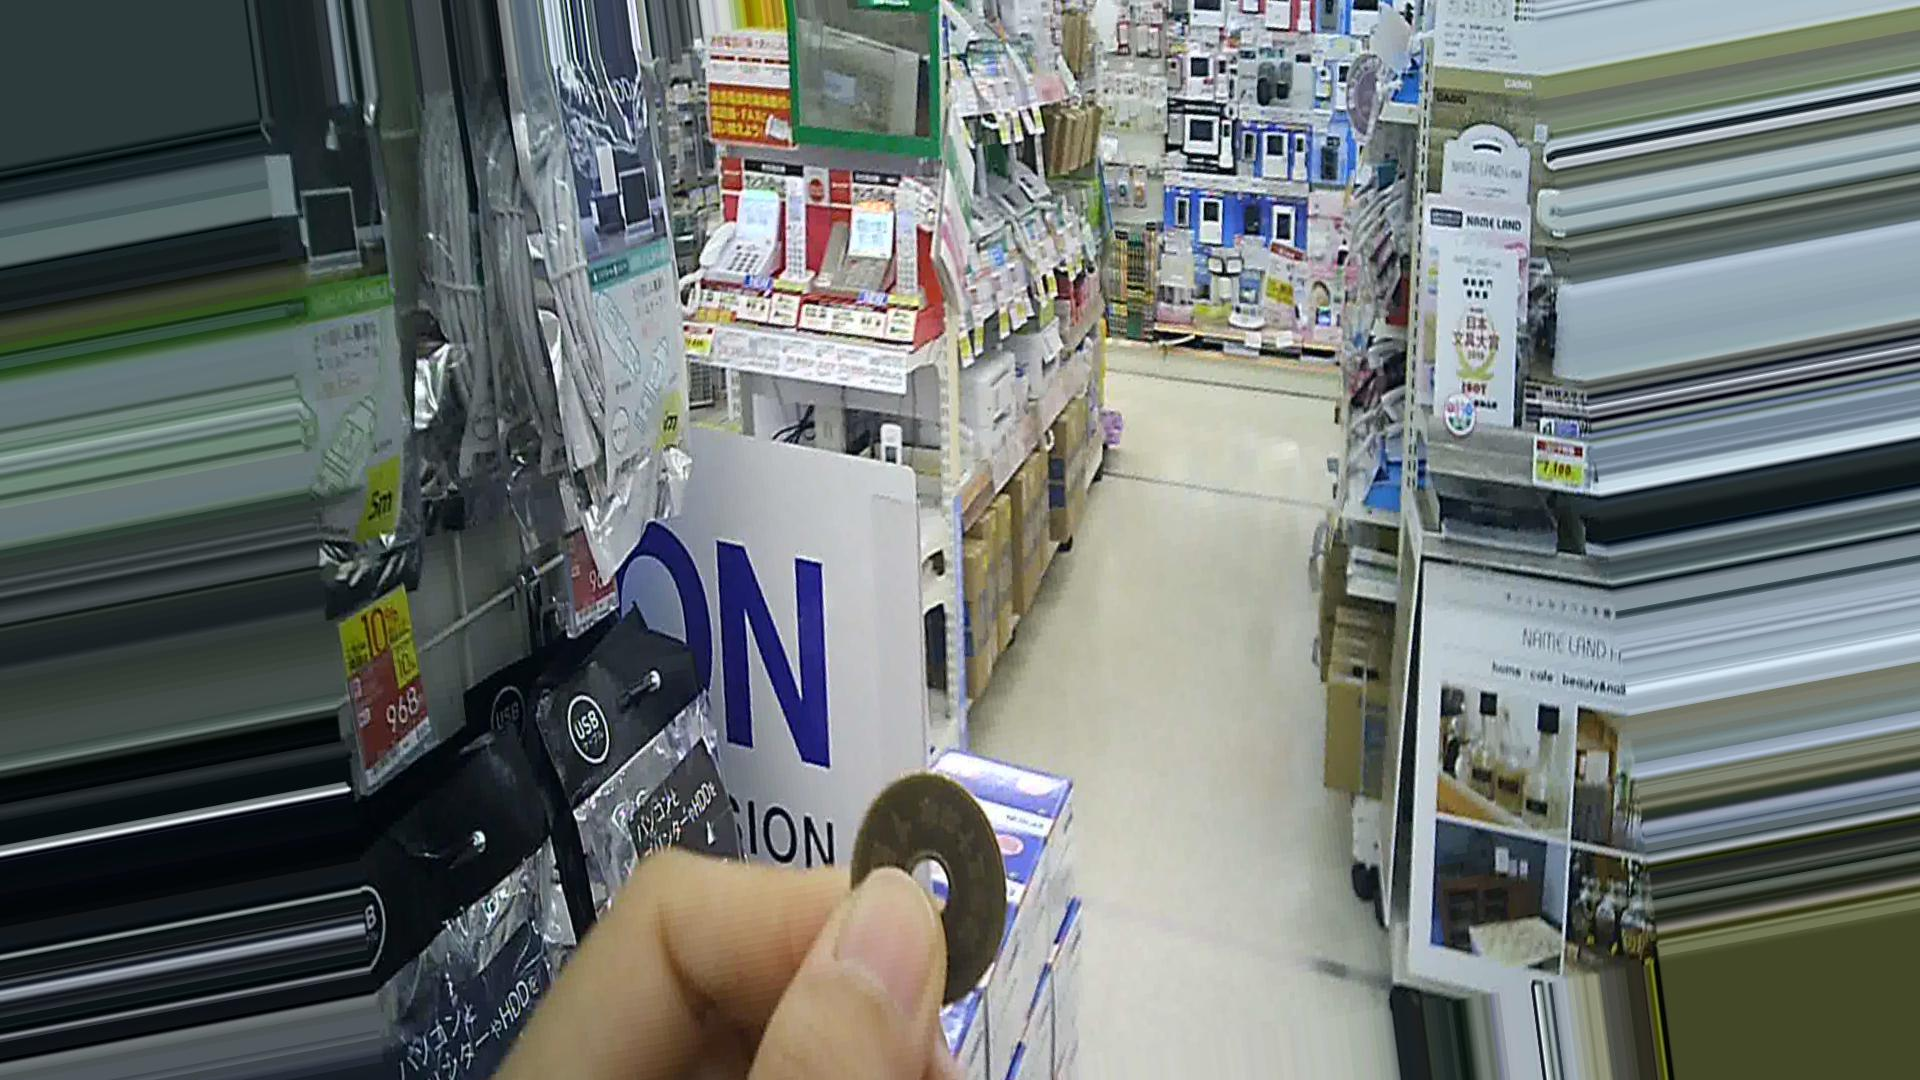5 Yen: (847, 767, 1029, 1021)
